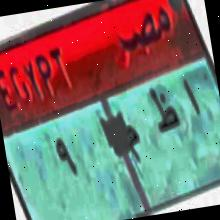9: (50, 126, 84, 178)
Thaa: (145, 76, 183, 139)
alif: (178, 72, 204, 122)
meem: (123, 119, 146, 165)
